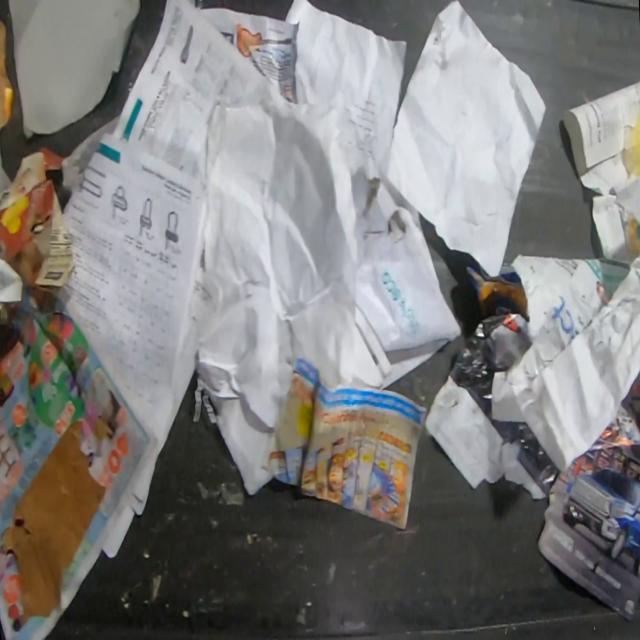cardboard: (0, 148, 76, 294)
soft_plastic: (625, 106, 640, 185)
